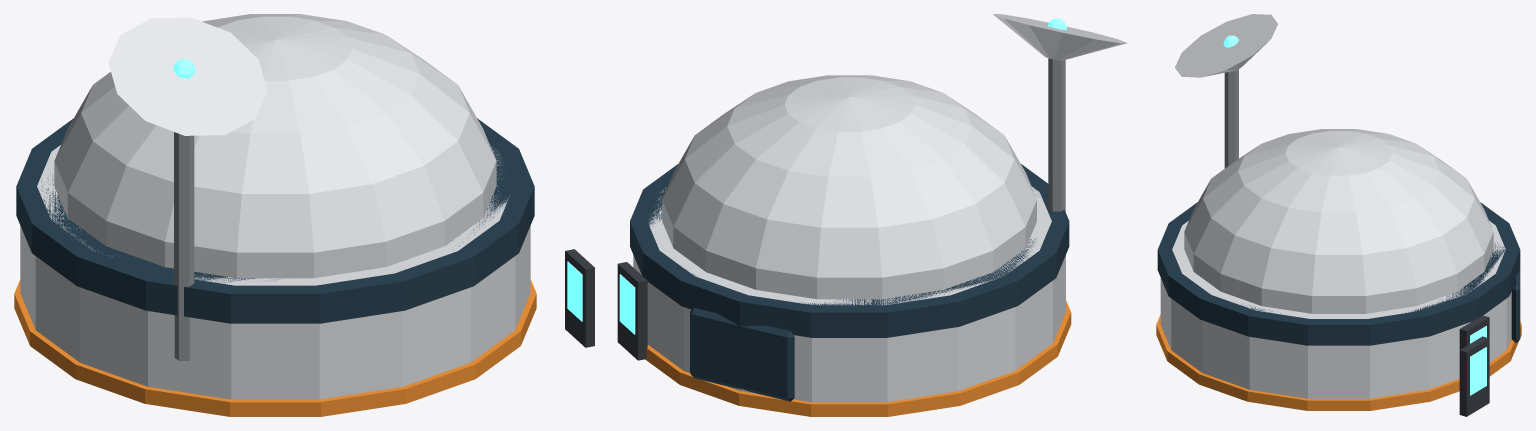
The model's file is research_center.glb.
The picture shows the model from 3 angles, left to right: view 1: azimuth 30°, elevation 25°; view 2: azimuth 150°, elevation 25°; view 3: azimuth 270°, elevation 25°; orthographic projection. The views are drawn at different scales.
Parts seen in each view (by area): view 1: research_center; view 2: research_center; view 3: research_center.
Boxes of the visible parts, bbox=[...] form: research_center: bbox=[14, 14, 536, 416]; research_center: bbox=[565, 14, 1126, 416]; research_center: bbox=[1156, 14, 1521, 416].
Size of the model in its own units: 2.73 by 2.09 by 2.56.
